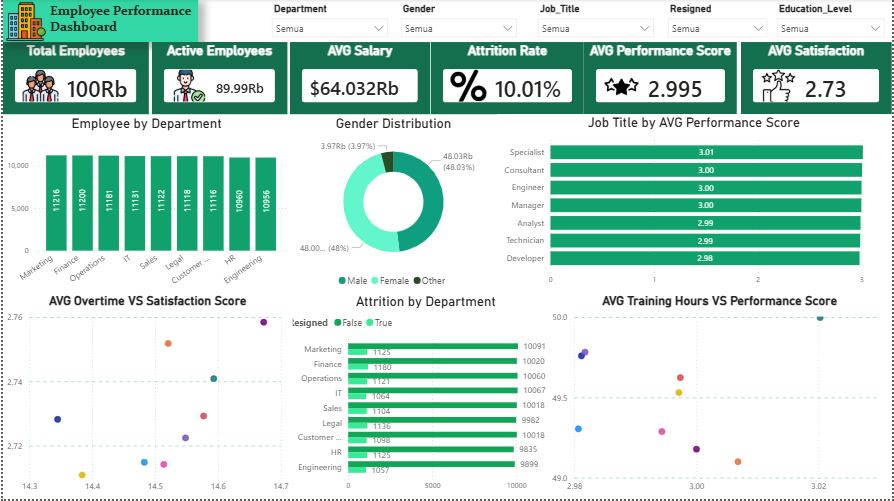

The dashboard page shown, as its layout file describes it:
{"tool":"powerbi","page":{"name":"Halaman 1","canvas":[1280,720],"ordinal":0},"visuals":[{"type":"cardVisual","title":"Total Employees","fields":{"Data":["Extended_Employee_Performance_and_Productivity_Data.Total Employees"]},"box":[0,62.2,210,104.1],"z":0},{"type":"textbox","box":[0,0,280.5,62.2],"z":1000},{"type":"image","box":[0,0,65.5,62.2],"z":2000},{"type":"cardVisual","title":"Active Employees","fields":{"Data":["Extended_Employee_Performance_and_Productivity_Data.Total Employee Active"]},"box":[215,62.2,194.9,104.1],"z":3000},{"type":"cardVisual","title":"AVG Salary","fields":{"Data":["Extended_Employee_Performance_and_Productivity_Data.AVG SALARY"]},"box":[413.8,62.2,201.8,104.3],"z":4000},{"type":"cardVisual","title":"Attrition Rate","fields":{"Data":["Extended_Employee_Performance_and_Productivity_Data.Attrition Rate"]},"box":[615.6,62.2,220.3,104.3],"z":5000},{"type":"cardVisual","title":"AVG Performance Score","fields":{"Data":["Extended_Employee_Performance_and_Productivity_Data.Average Performance"]},"box":[836.5,62.2,220.1,104.1],"z":6000},{"type":"cardVisual","title":"AVG Satisfaction","fields":{"Data":["Extended_Employee_Performance_and_Productivity_Data.Average Satisfaction"]},"box":[1063.3,62.2,216.7,104.1],"z":7000},{"type":"clusteredBarChart","title":"Attrition by Department","fields":{"Category":["Extended_Employee_Performance_and_Productivity_Data.Department"],"Y":["CountNonNull(Extended_Employee_Performance_and_Productivity_Data.Employee_ID)"],"Series":["Extended_Employee_Performance_and_Productivity_Data.Resigned"]},"box":[405.4,423.9,405.4,296],"z":8000},{"type":"columnChart","title":"Employee by Department","fields":{"Category":["Extended_Employee_Performance_and_Productivity_Data.Department"],"Y":["CountNonNull(Extended_Employee_Performance_and_Productivity_Data.Employee_ID)"]},"box":[0,166.5,413.8,257.3],"z":9000},{"type":"donutChart","title":"Gender Distribution","fields":{"Category":["Extended_Employee_Performance_and_Productivity_Data.Gender"],"Y":["CountNonNull(Extended_Employee_Performance_and_Productivity_Data.Employee_ID)"]},"box":[413.8,166.5,297.7,257.3],"z":10000},{"type":"scatterChart","title":"AVG Training Hours VS Performance Score","fields":{"X":["Avg(Extended_Employee_Performance_and_Productivity_Data.Performance_Score)"],"Y":["Avg(Extended_Employee_Performance_and_Productivity_Data.Training_Hours)"],"Series":["Extended_Employee_Performance_and_Productivity_Data.Department"],"Category":["Extended_Employee_Performance_and_Productivity_Data.Department"]},"box":[785.5,423.9,494.5,296],"z":11000},{"type":"scatterChart","title":"AVG Overtime VS Satisfaction Score","fields":{"X":["Avg(Extended_Employee_Performance_and_Productivity_Data.Overtime_Hours)"],"Series":["Extended_Employee_Performance_and_Productivity_Data.Department"],"Category":["Extended_Employee_Performance_and_Productivity_Data.Department"],"Y":["Extended_Employee_Performance_and_Productivity_Data.Employee_Satisfaction_Score"]},"box":[0,423.9,417.1,296],"z":12000},{"type":"slicer","fields":{"Values":["Extended_Employee_Performance_and_Productivity_Data.Department"]},"box":[376.8,0,186.7,62.2],"z":14000},{"type":"slicer","fields":{"Values":["Extended_Employee_Performance_and_Productivity_Data.Gender"]},"box":[563.5,0,186.7,62.2],"z":15000},{"type":"slicer","fields":{"Values":["Extended_Employee_Performance_and_Productivity_Data.Job_Title"]},"box":[760.3,0,186.7,62.2],"z":16000},{"type":"slicer","fields":{"Values":["Extended_Employee_Performance_and_Productivity_Data.Resigned"]},"box":[947,0,163.2,62.2],"z":17000},{"type":"slicer","fields":{"Values":["Extended_Employee_Performance_and_Productivity_Data.Education_Level"]},"box":[1105.1,0,174.9,62.2],"z":17001},{"type":"barChart","title":"Job Title by AVG Performance Score","fields":{"Category":["Extended_Employee_Performance_and_Productivity_Data.Job_Title"],"Y":["Avg(Extended_Employee_Performance_and_Productivity_Data.Performance_Score)"]},"box":[711.4,165.6,567.4,256.3],"z":17002}]}

Visuals, with their boxes in screenshot pixels (x1, y1, x2, y2), scaled from the page's 1280x720 canvas onto the 894x501 screenshot:
"Total Employees" cardVisual: <box>0,43,147,116</box>
textbox: <box>0,0,196,43</box>
image: <box>0,0,46,43</box>
"Active Employees" cardVisual: <box>150,43,286,116</box>
"AVG Salary" cardVisual: <box>289,43,430,116</box>
"Attrition Rate" cardVisual: <box>430,43,584,116</box>
"AVG Performance Score" cardVisual: <box>584,43,738,116</box>
"AVG Satisfaction" cardVisual: <box>743,43,893,116</box>
"Attrition by Department" clusteredBarChart: <box>283,295,566,500</box>
"Employee by Department" columnChart: <box>0,116,289,295</box>
"Gender Distribution" donutChart: <box>289,116,497,295</box>
"AVG Training Hours VS Performance Score" scatterChart: <box>549,295,893,500</box>
"AVG Overtime VS Satisfaction Score" scatterChart: <box>0,295,291,500</box>
slicer - Extended_Employee_Performance_and_Productivity_Data.Department: <box>263,0,394,43</box>
slicer - Extended_Employee_Performance_and_Productivity_Data.Gender: <box>394,0,524,43</box>
slicer - Extended_Employee_Performance_and_Productivity_Data.Job_Title: <box>531,0,661,43</box>
slicer - Extended_Employee_Performance_and_Productivity_Data.Resigned: <box>661,0,775,43</box>
slicer - Extended_Employee_Performance_and_Productivity_Data.Education_Level: <box>772,0,893,43</box>
"Job Title by AVG Performance Score" barChart: <box>497,115,893,294</box>
